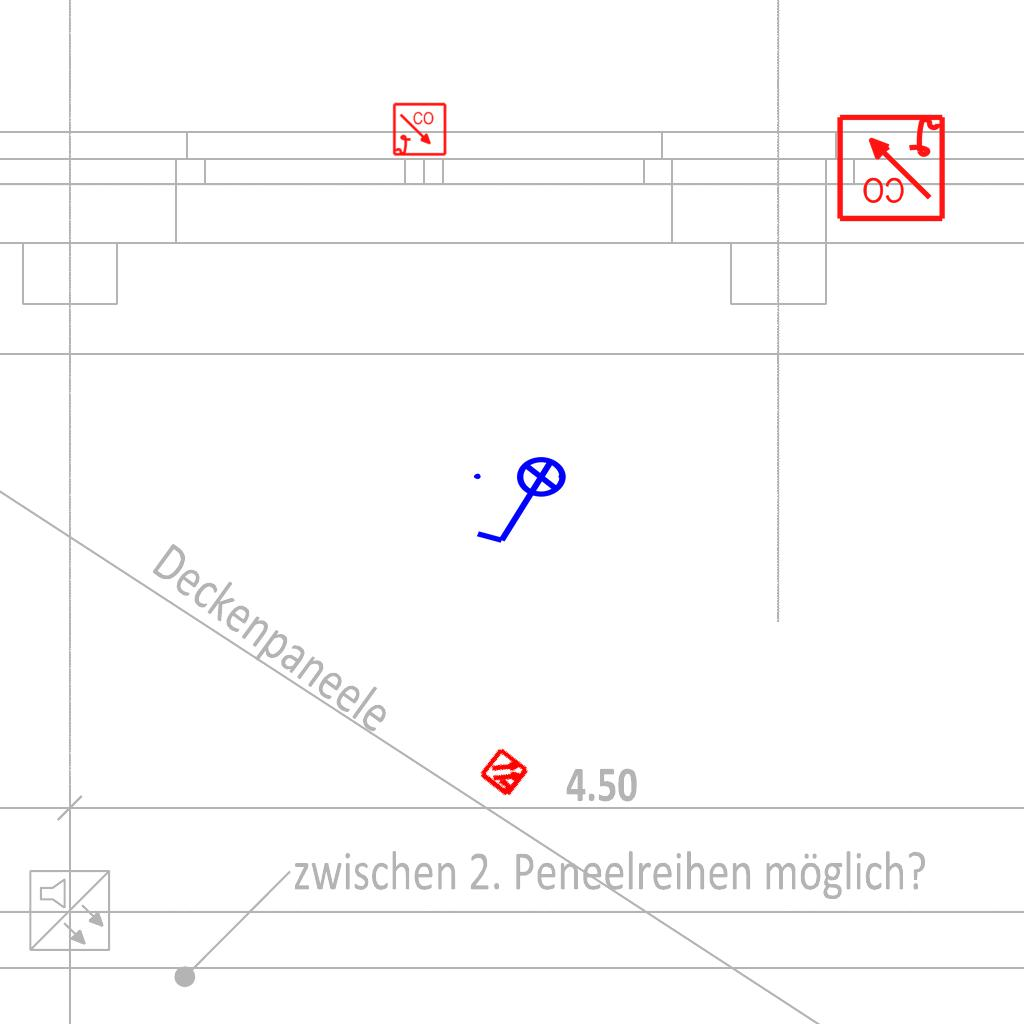Ausschalter_beleuchtet: (468, 455, 580, 551)
OT_Multisensormelder_(Kombination_RMO_WMD): (465, 733, 545, 813)
ROA_Rauchmelder_optisch_mit_Signalgeber_(Sockelsirene): (834, 110, 947, 223), (392, 102, 448, 158)
